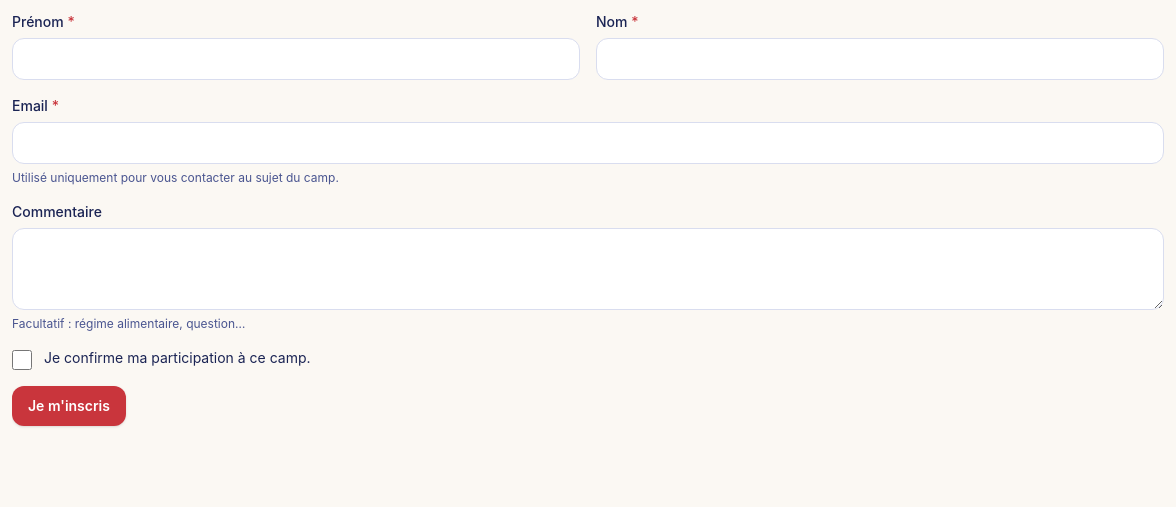
RegistrationForm › affiche le message de l’API en cas de doublon
Type "Ada" into the field labelled "Prénom *".
click(296, 59); type("Ada")  # box [12,38,580,80]
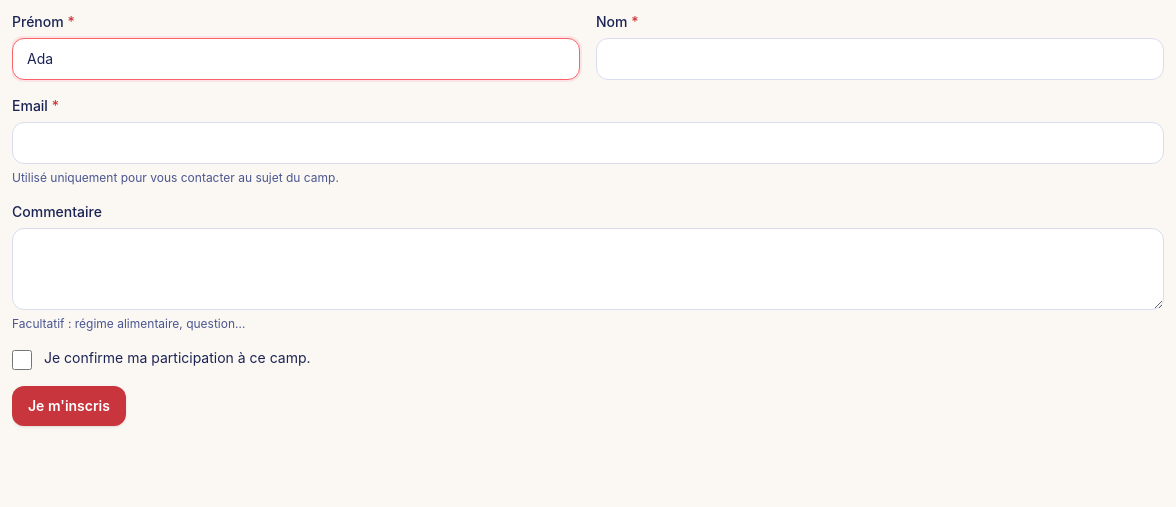
Type "Lovelace" into the field labelled "Nom *".
click(880, 59); type("Lovelace")  # box [596,38,1164,80]
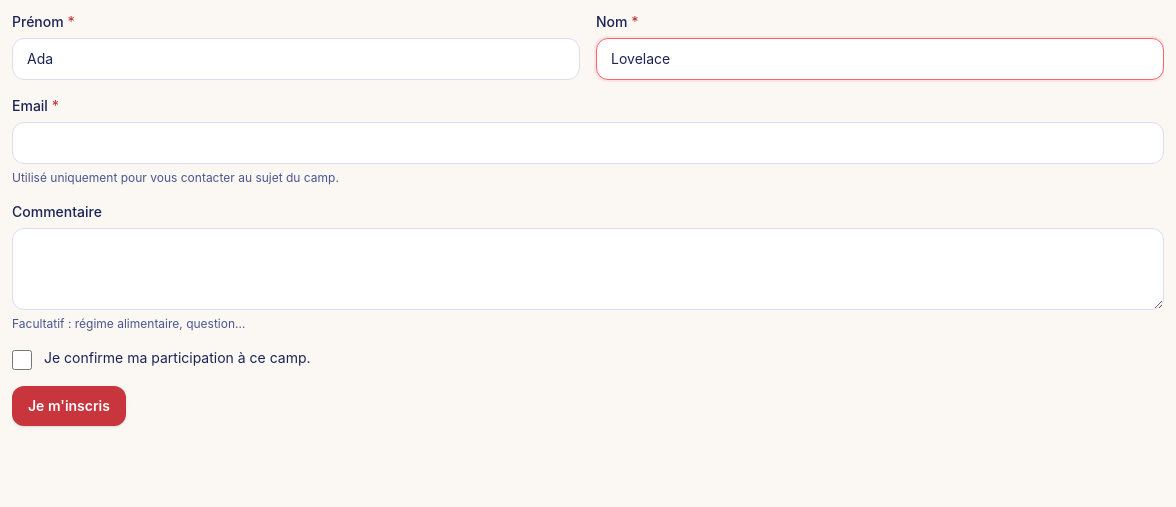
Type "ada@example.com" into the field labelled "Email *".
click(588, 143); type("ada@example.com")  # box [12,122,1164,164]
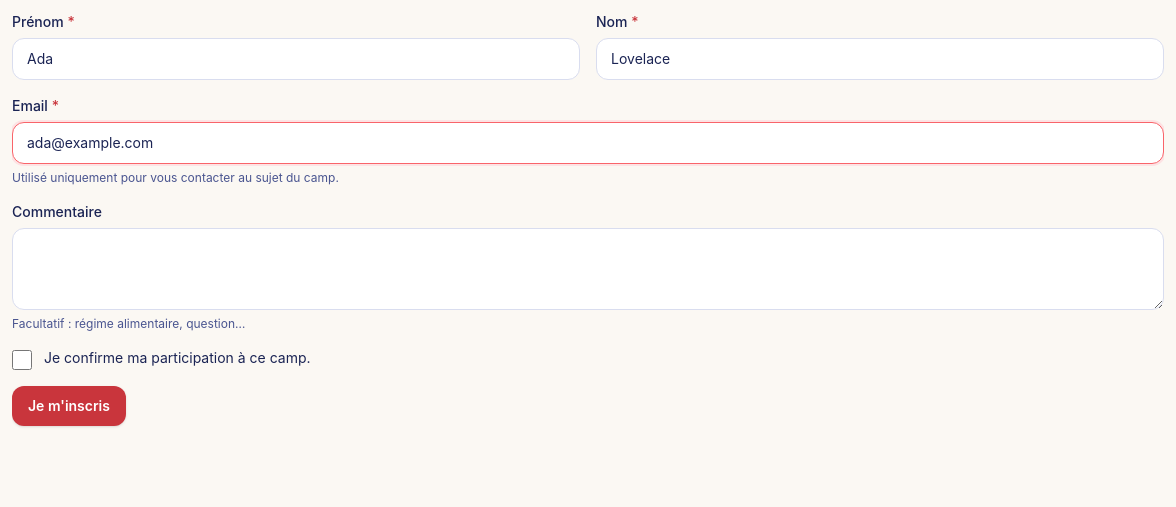
Click the checkbox labelled "Je confirme ma participation à ce camp.".
click(22, 360)  # box [12,350,32,370]
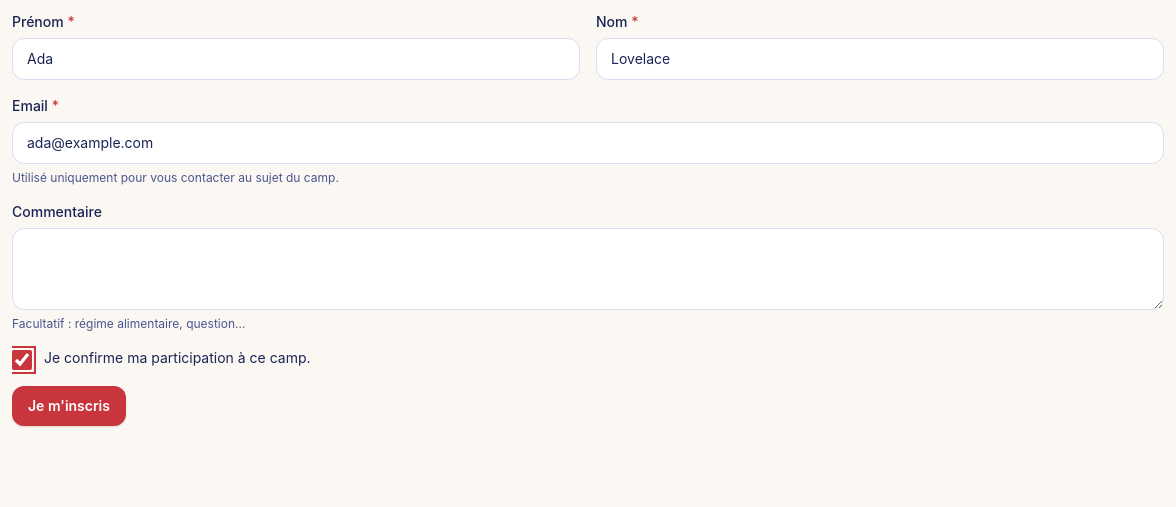
Click the button "Je m'inscris".
click(69, 406)  # box [12,386,126,426]
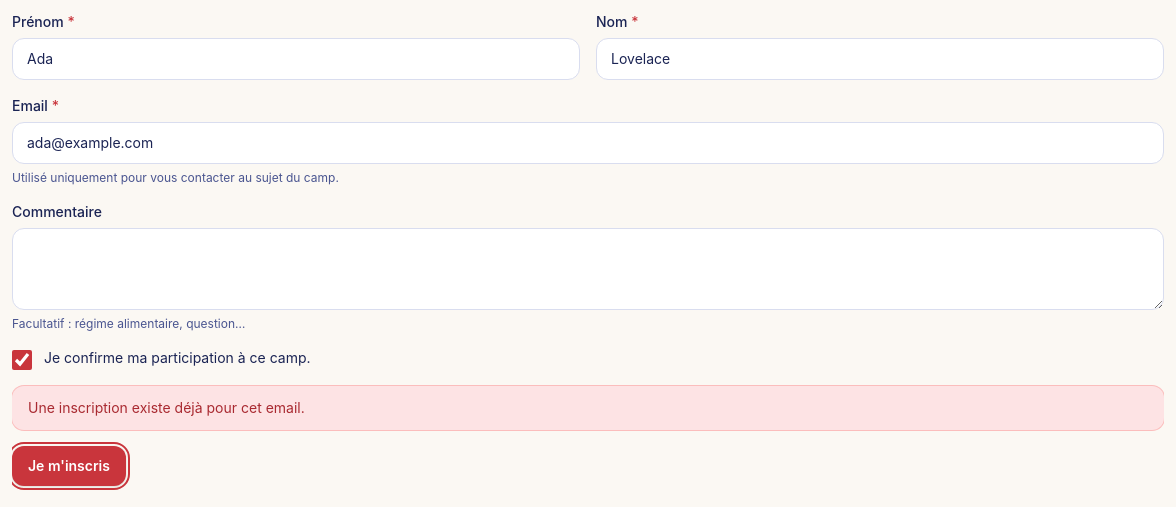
expect the message reads "Une inscription existe déjà pour cet email.": met, box [28,399,305,416]
